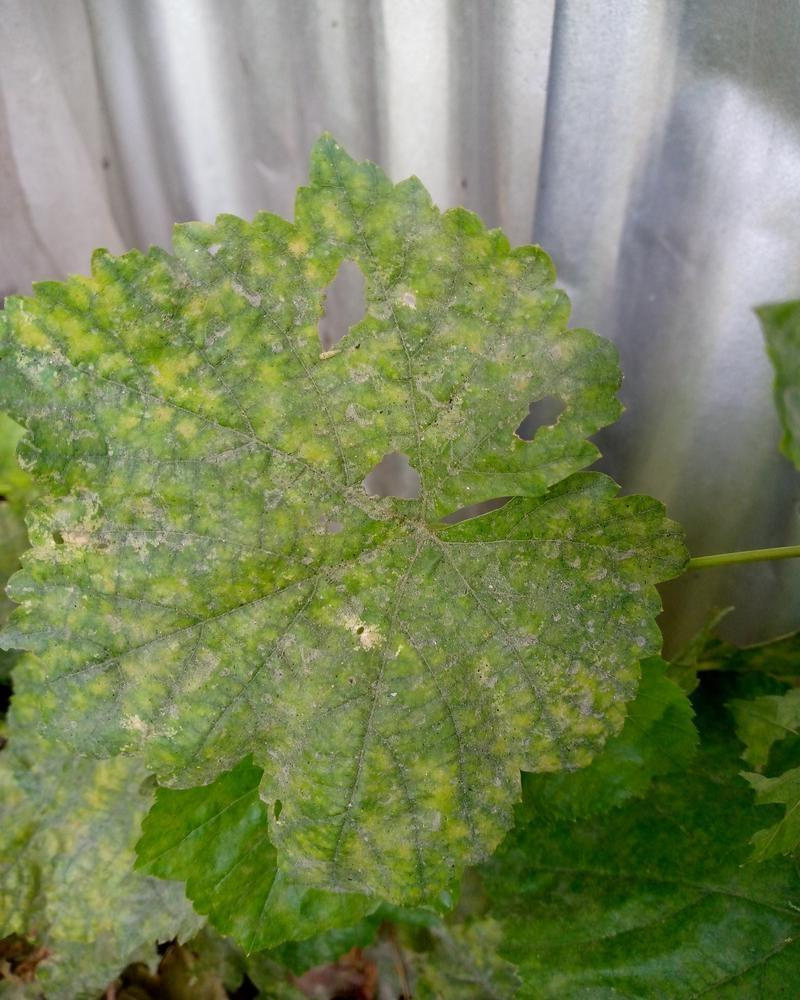Powdery-Mildew: (243, 202, 468, 545), (461, 615, 641, 796), (8, 259, 223, 404), (55, 624, 185, 841), (341, 733, 481, 892), (450, 248, 572, 428), (295, 584, 407, 674), (45, 494, 124, 577), (311, 267, 392, 341), (141, 413, 204, 476), (191, 624, 254, 687), (263, 655, 326, 718)
